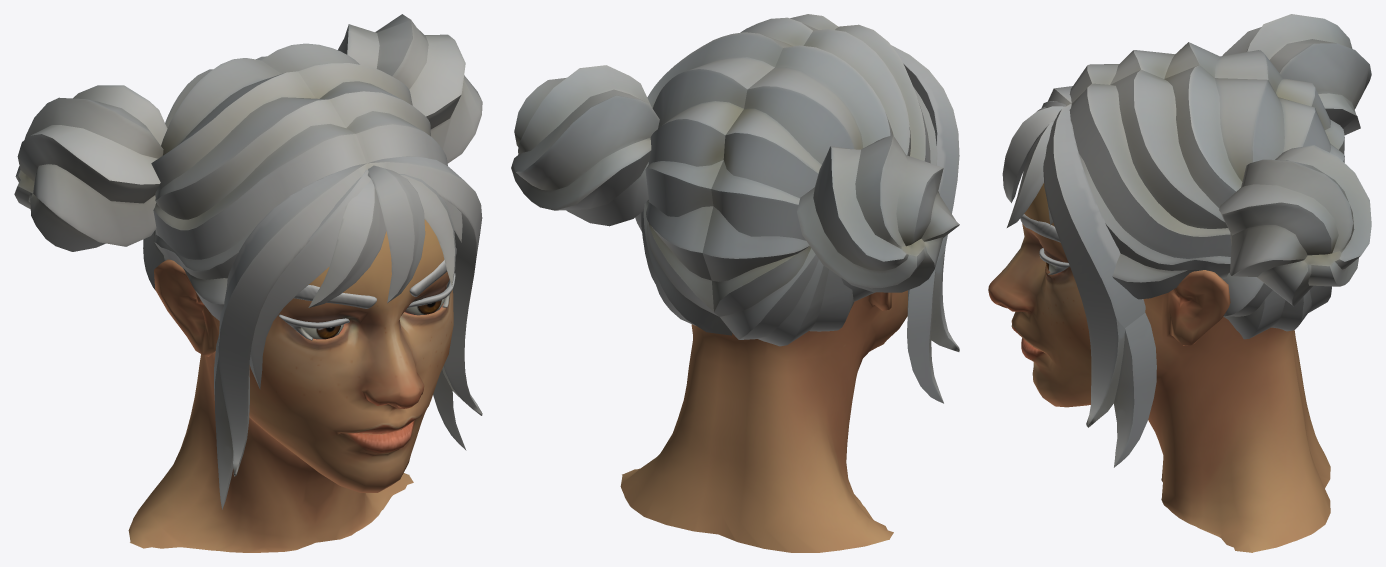
Rendered from iris.glb.
3 renders of one model, left to right at view 1: azimuth 30°, elevation 25°; view 2: azimuth 150°, elevation 25°; view 3: azimuth 270°, elevation 25°, orthographic. The views are drawn at different scales.
Parts seen in each view (by area): view 1: Hair_Buns, Superhero_Female, Eyebrows, Eyes; view 2: Hair_Buns, Superhero_Female; view 3: Hair_Buns, Superhero_Female, Eyebrows.
Part boxes in pixels (x1,y1,x2,y2): Hair_Buns: [14, 14, 482, 509]; Superhero_Female: [128, 219, 453, 552]; Eyebrows: [278, 248, 456, 340]; Eyes: [303, 298, 444, 339]; Hair_Buns: [511, 14, 959, 403]; Superhero_Female: [620, 290, 907, 552]; Hair_Buns: [1002, 14, 1371, 467]; Superhero_Female: [988, 183, 1330, 552]; Eyebrows: [1020, 214, 1069, 274].
Size of the model in its own units: 0.3015 by 0.3036 by 0.246.
4 materials, 4 textured.
